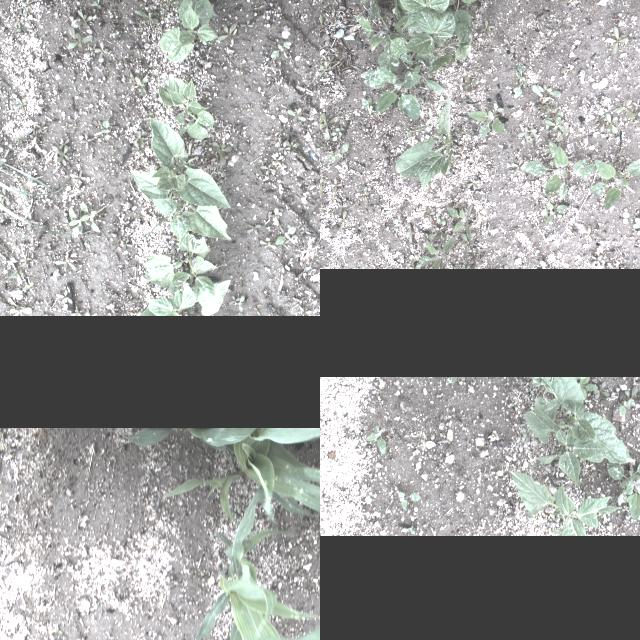crop: (119, 428, 320, 538), (193, 485, 320, 640), (521, 377, 634, 487), (147, 115, 230, 208), (127, 170, 231, 242), (140, 234, 230, 316), (509, 472, 621, 536), (394, 98, 468, 190), (391, 0, 470, 74), (158, 0, 217, 60), (160, 77, 214, 139), (332, 0, 427, 18)
weed: (0, 137, 95, 236), (522, 140, 598, 200), (353, 0, 411, 71), (360, 66, 420, 120), (425, 0, 488, 49), (587, 158, 640, 210), (607, 460, 640, 519), (530, 84, 568, 134), (467, 99, 507, 137), (402, 56, 444, 92), (68, 200, 99, 238), (418, 238, 454, 268), (446, 204, 472, 240), (322, 142, 352, 166), (605, 26, 629, 54), (364, 425, 386, 455), (65, 27, 91, 51), (618, 387, 638, 418), (540, 202, 566, 224), (320, 112, 340, 140), (6, 296, 32, 316), (50, 138, 68, 166), (594, 113, 618, 133), (512, 64, 526, 98), (614, 99, 634, 119), (578, 377, 597, 398), (212, 142, 230, 164), (128, 74, 146, 96), (397, 492, 419, 510), (320, 55, 334, 81), (275, 226, 295, 244), (73, 10, 91, 28), (360, 96, 378, 114), (216, 24, 236, 40), (404, 125, 424, 141), (136, 10, 158, 24), (428, 226, 447, 242), (593, 382, 609, 400), (270, 42, 290, 56), (517, 125, 537, 139), (462, 76, 478, 92), (336, 211, 348, 231), (320, 173, 330, 197), (56, 289, 72, 303), (460, 232, 476, 246), (50, 624, 66, 638), (54, 260, 76, 270), (632, 215, 640, 240), (391, 214, 402, 232), (480, 20, 494, 34), (465, 177, 479, 191), (358, 187, 368, 205), (444, 377, 466, 385), (559, 62, 573, 74), (502, 39, 514, 53), (330, 179, 342, 193), (174, 548, 186, 562), (405, 223, 413, 243), (424, 206, 434, 222), (589, 255, 601, 267), (583, 228, 593, 242), (331, 128, 342, 140), (514, 158, 522, 174), (197, 568, 206, 582), (408, 260, 422, 268), (334, 198, 342, 212), (631, 98, 640, 110), (394, 232, 401, 244), (400, 528, 414, 534), (544, 28, 554, 36), (436, 217, 444, 226), (320, 14, 323, 35), (627, 117, 637, 123), (320, 203, 325, 213), (320, 42, 326, 48), (637, 110, 640, 121), (438, 393, 444, 397), (439, 434, 445, 438), (466, 250, 476, 252), (373, 205, 379, 207)
